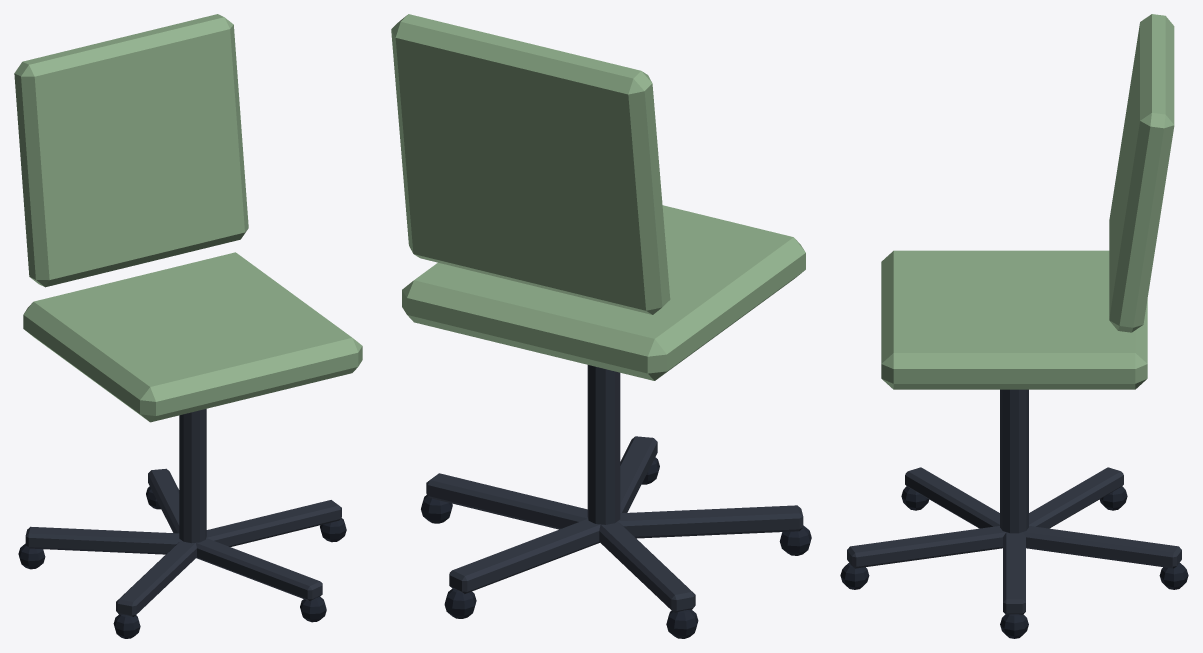
Rendered from chair_office.glb.
3 views of the same model, side by side, from view 1: azimuth 30°, elevation 25°; view 2: azimuth 150°, elevation 25°; view 3: azimuth 270°, elevation 25° (orthographic). The views are drawn at different scales.
Visible parts, largest first — view 1: back, seat, column, spoke_2, spoke_4, spoke_0, spoke_3, spoke_1, caster_3, caster_4, caster_2; view 2: back, seat, column, spoke_3, spoke_1, spoke_0, spoke_2, spoke_4, caster_2, caster_1, caster_3, caster_0; view 3: seat, back, column, spoke_1, spoke_4, spoke_2, spoke_3, spoke_0, caster_0, caster_1, caster_4.
Boxes of the visible parts, x1,y1,x2,y2 form: back: (14,14,248,287); seat: (23,252,362,422); column: (179,409,206,543); spoke_2: (25,526,180,554); spoke_4: (196,538,322,601); spoke_0: (206,500,341,546); spoke_3: (116,540,196,616); spoke_1: (148,468,179,533); caster_3: (113,614,140,638); caster_4: (300,596,326,622); caster_2: (18,543,45,569); back: (391,14,670,314); seat: (402,205,805,380); column: (587,365,620,524); spoke_3: (618,505,803,538); spoke_1: (449,519,600,593); spoke_0: (426,473,587,529); spoke_2: (599,521,695,612); spoke_4: (620,436,657,513); caster_2: (666,610,698,638); caster_1: (444,588,476,618); caster_3: (779,525,811,555); caster_0: (421,495,452,523); seat: (881,250,1147,389); back: (1109,14,1174,332); column: (1000,389,1028,533); spoke_1: (1023,526,1181,568); spoke_4: (847,526,1005,568); spoke_2: (1029,467,1123,528); spoke_3: (905,467,999,528); spoke_0: (1003,532,1025,614); caster_0: (1000,614,1028,638); caster_1: (1159,563,1188,589); caster_4: (840,563,869,589).
Size of the model in its own units: 0.5746 by 0.9596 by 0.6016.
